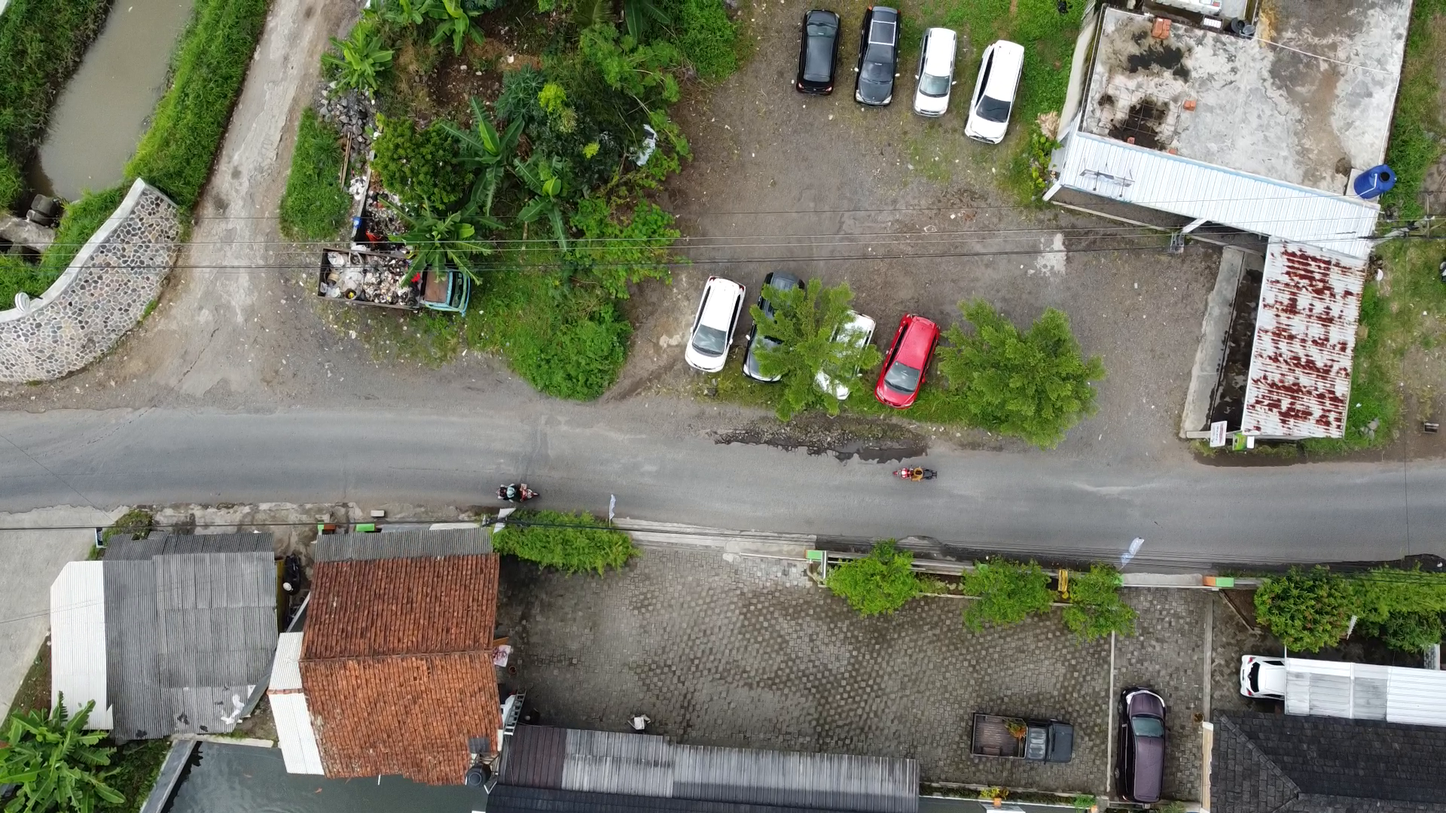mobil: (955, 689, 1078, 777), (1115, 679, 1173, 813), (881, 297, 941, 422), (968, 36, 1028, 151), (788, 3, 852, 110), (682, 265, 740, 371), (822, 299, 878, 405), (757, 266, 805, 382), (852, 5, 904, 107), (916, 18, 963, 121), (1226, 640, 1288, 708)
